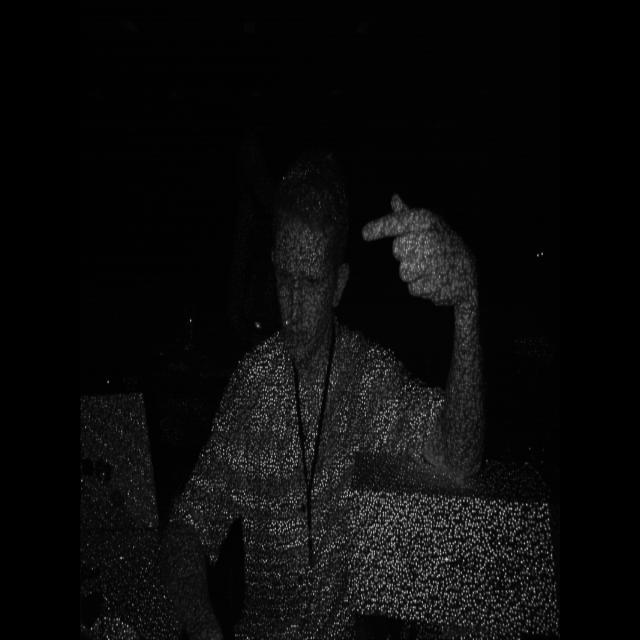G: (348, 180, 492, 342)
